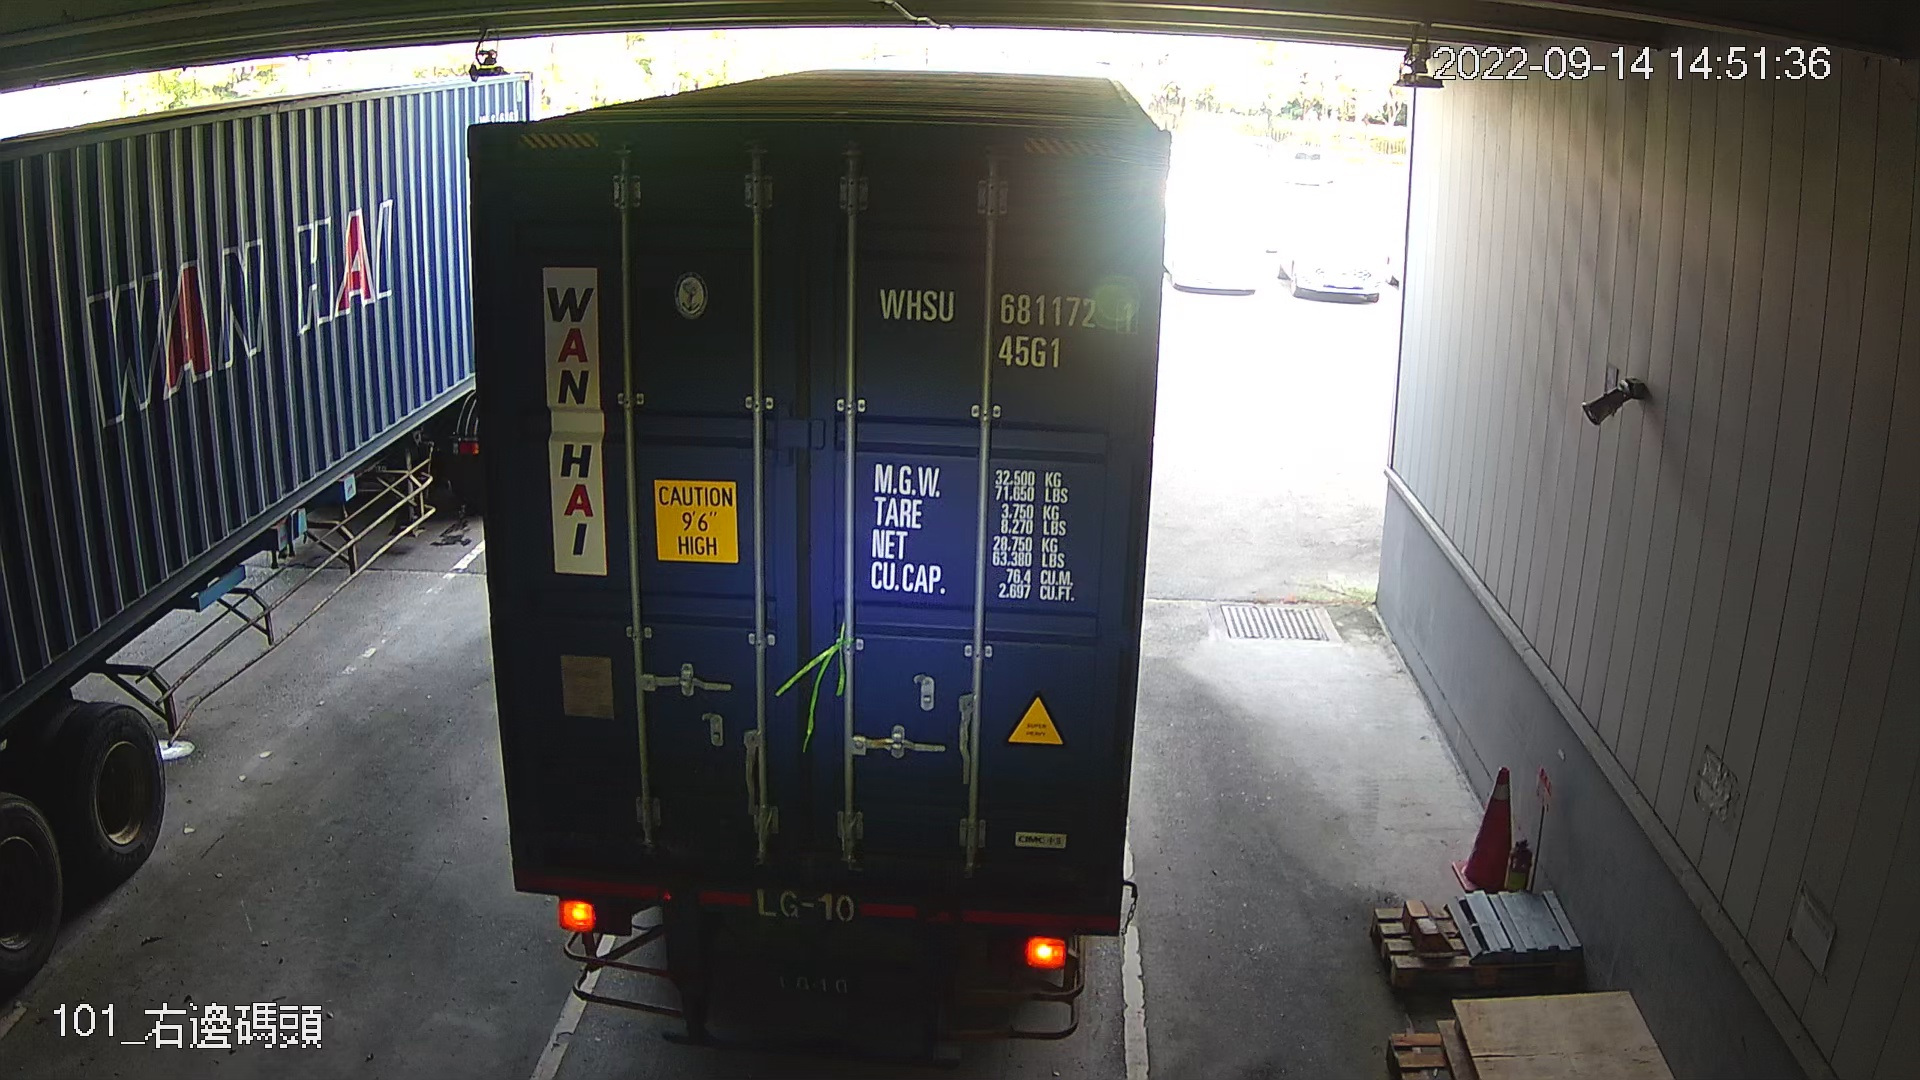container: (860, 272, 1138, 377)
